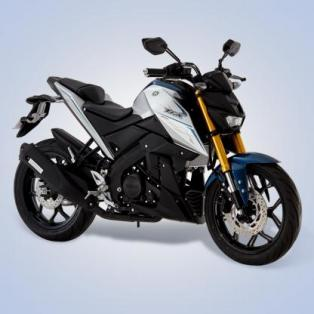Motocicleta: (5, 30, 304, 266)
